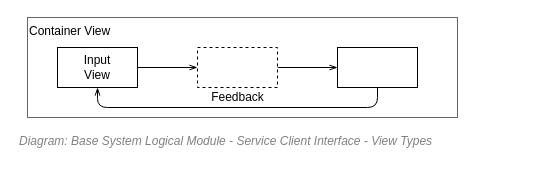
Image size: 554x169. Some labels were removed from this diagram. Each missing label, with the centre of its shape:
"Operate" goes at (x=237, y=67).
"Output View" goes at (x=377, y=67).
